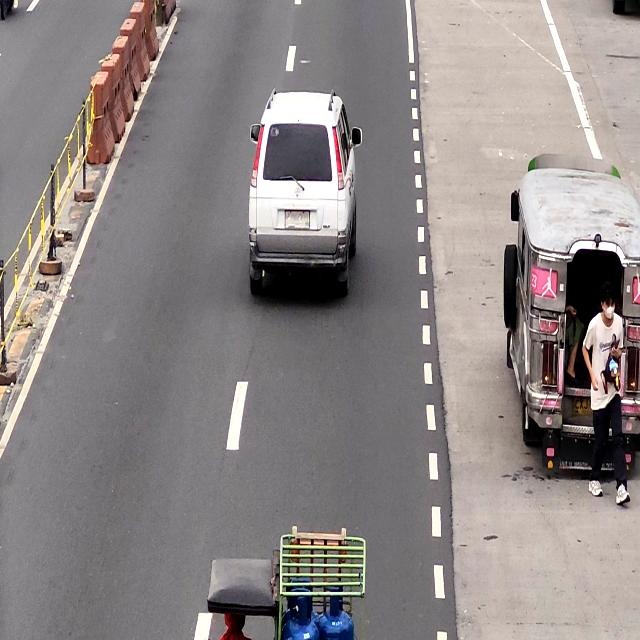Car: (248, 92, 357, 300)
Jeep: (502, 158, 640, 474)
